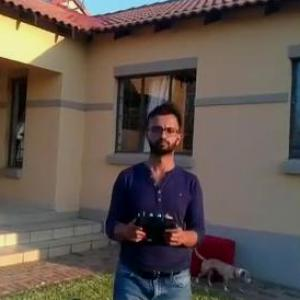follow: (98, 97, 212, 299)
null: (193, 245, 256, 297)
